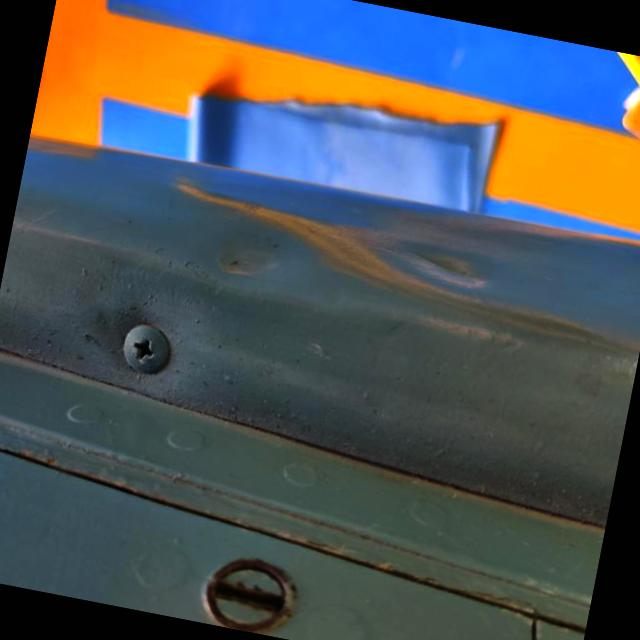dent: (142, 147, 640, 383)
